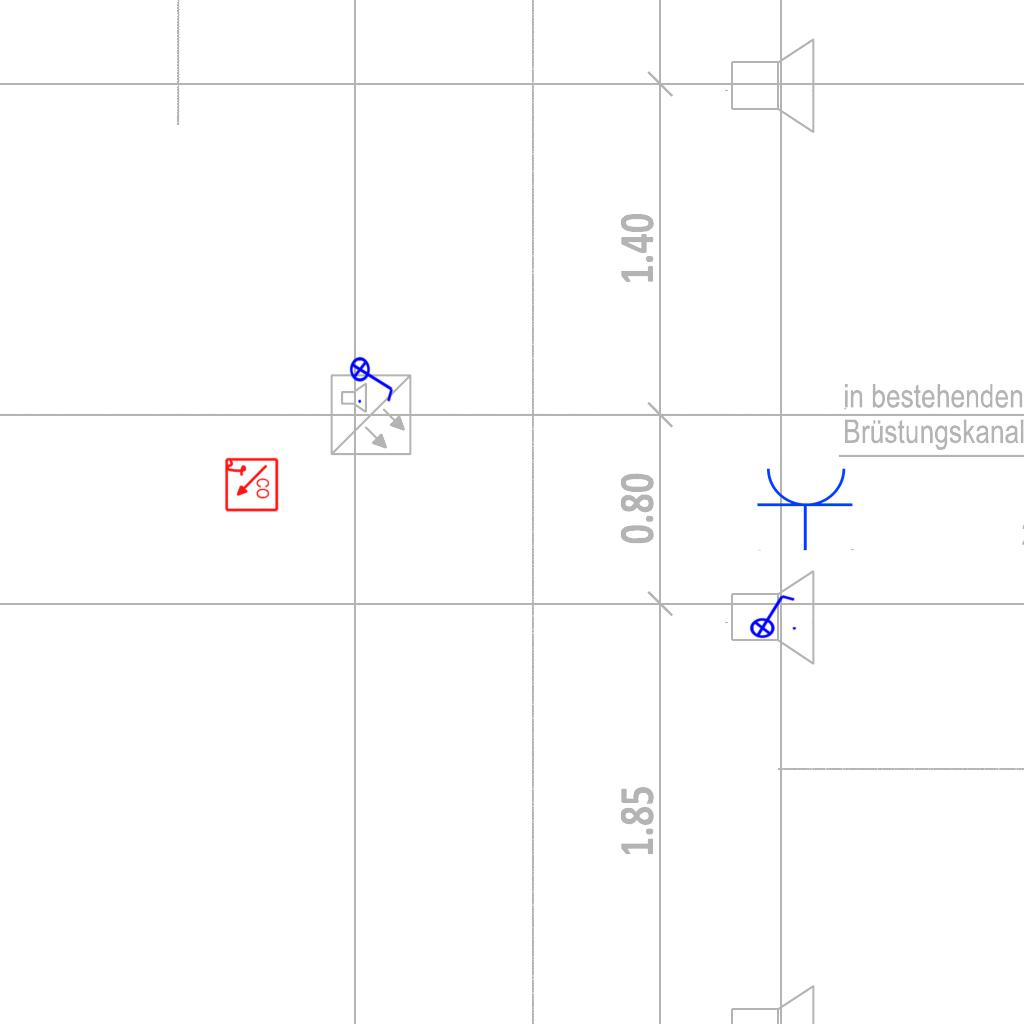Ausschalter_beleuchtet: (743, 591, 799, 639), (349, 350, 397, 406)
ROA_Rauchmelder_optisch_mit_Signalgeber_(Sockelsirene): (223, 457, 279, 513)
Schukosteckdose_einfach: (756, 464, 856, 551)
